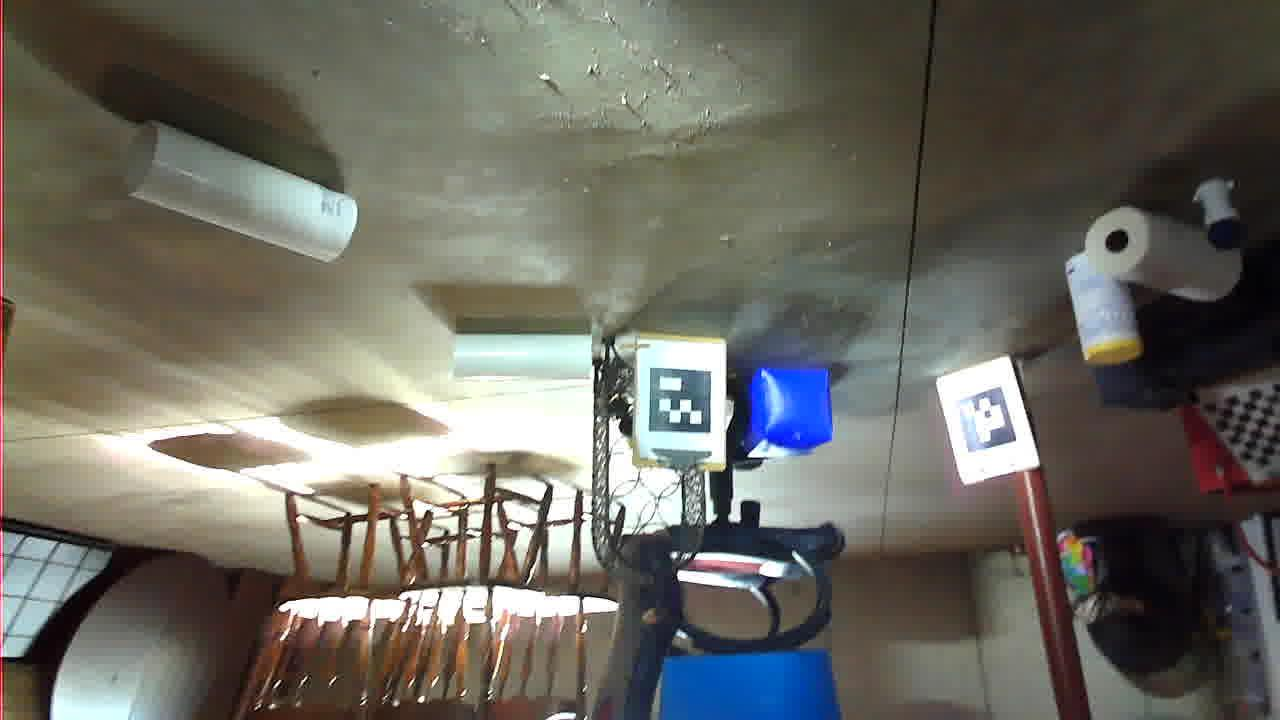coral: (926, 457, 1153, 599), (690, 340, 827, 388)
